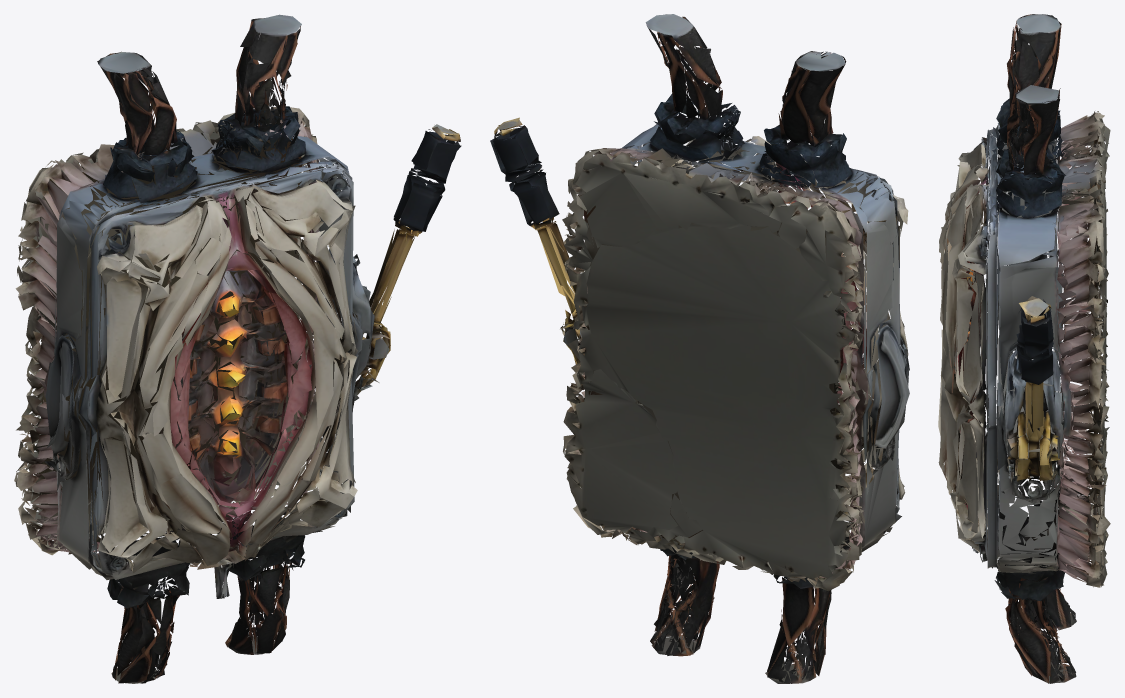
Rendered from base_power_junction_box.glb.
The picture shows the model from 3 angles, left to right: view 1: azimuth 30°, elevation 25°; view 2: azimuth 150°, elevation 25°; view 3: azimuth 270°, elevation 25°; orthographic projection. The views are drawn at different scales.
Visible parts, largest first — view 1: node_0; view 2: node_0; view 3: node_0.
Boxes of the visible parts, x1,y1,x2,y2 form: node_0: (14,14,461,683); node_0: (490,14,909,683); node_0: (938,14,1110,683).
Bounding box in the file's own units: 0.7385 × 1.08 × 0.2859.
1 material, 1 textured.
